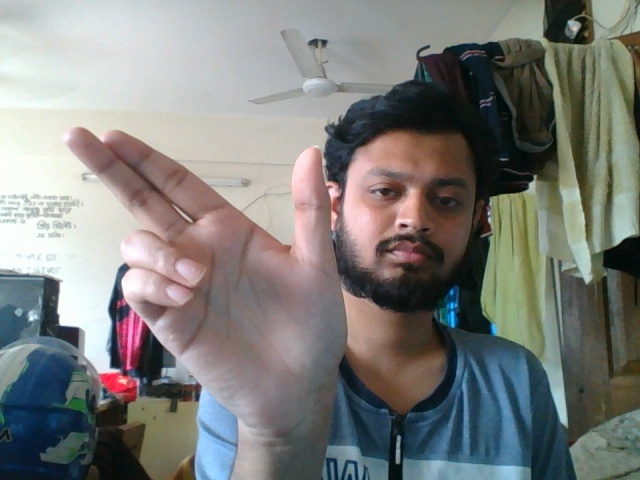jha: (58, 122, 353, 420)
